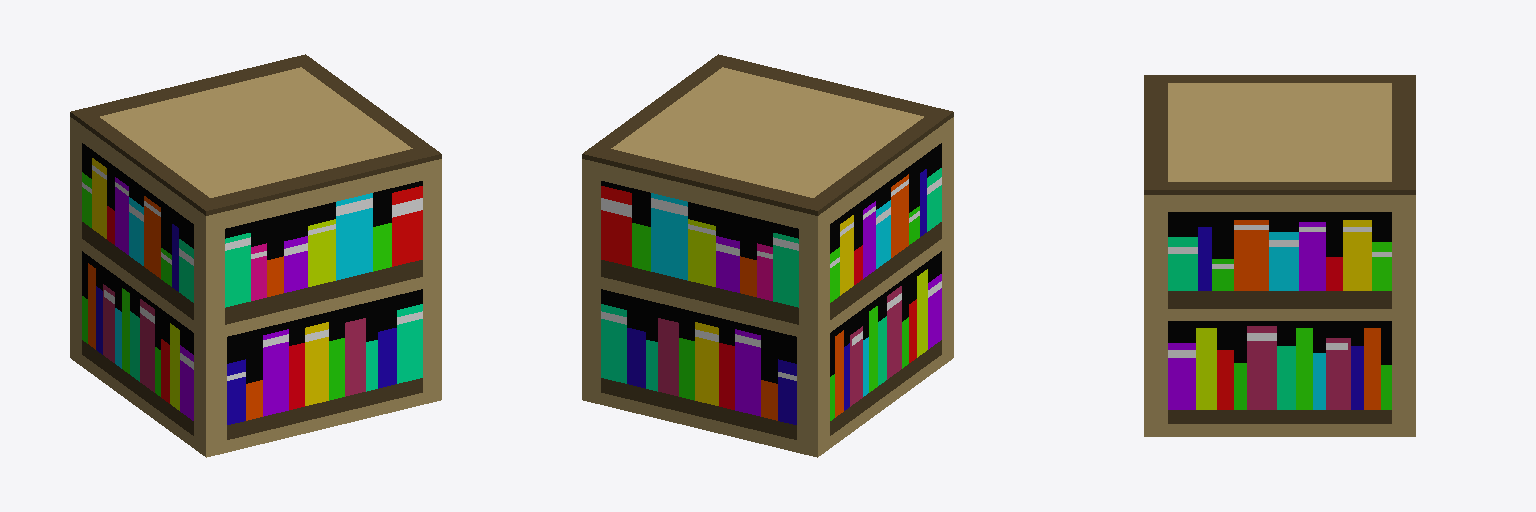
3 views of the same model, side by side, from view 1: azimuth 30°, elevation 25°; view 2: azimuth 150°, elevation 25°; view 3: azimuth 270°, elevation 25° (orthographic).
Visible parts, largest first — view 1: object 1; view 2: object 1; view 3: object 1.
Boxes of the visible parts, box(x1,y1,x2,y2) form: object 1: box(70, 54, 441, 457); object 1: box(582, 54, 953, 457); object 1: box(1144, 75, 1415, 436).
Size of the model in its own units: 10 by 10 by 10.
Materials: 1 (1 with a texture image).